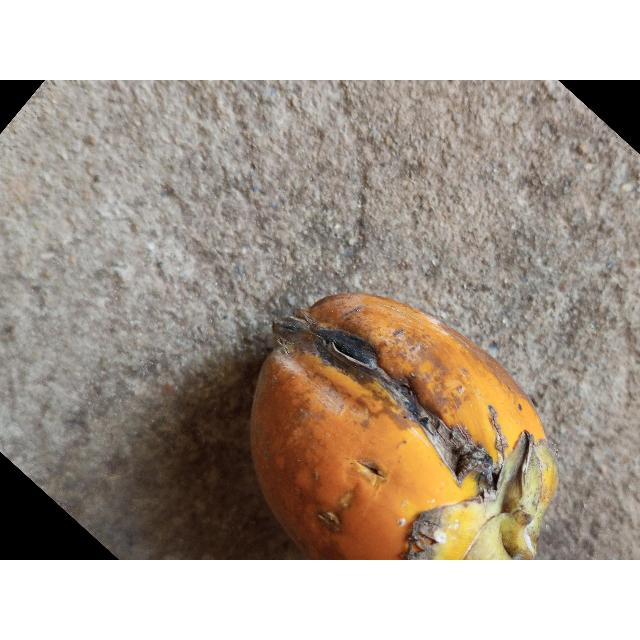damaged: (251, 294, 558, 560)
